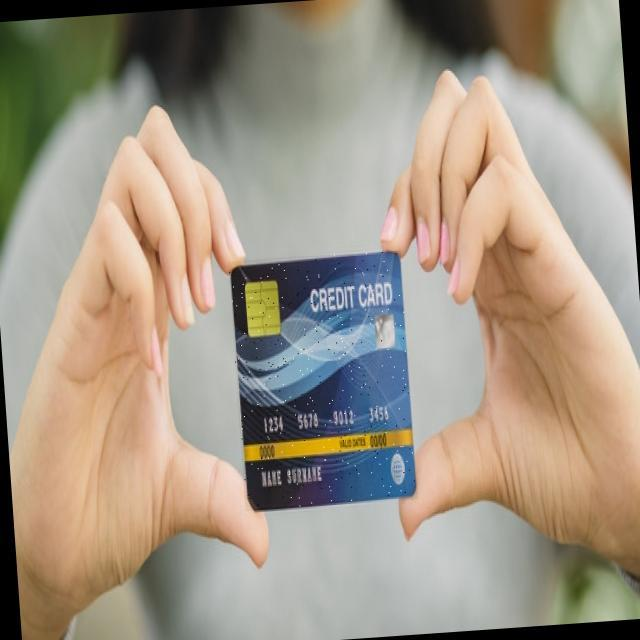payment_card: (229, 250, 417, 511)
